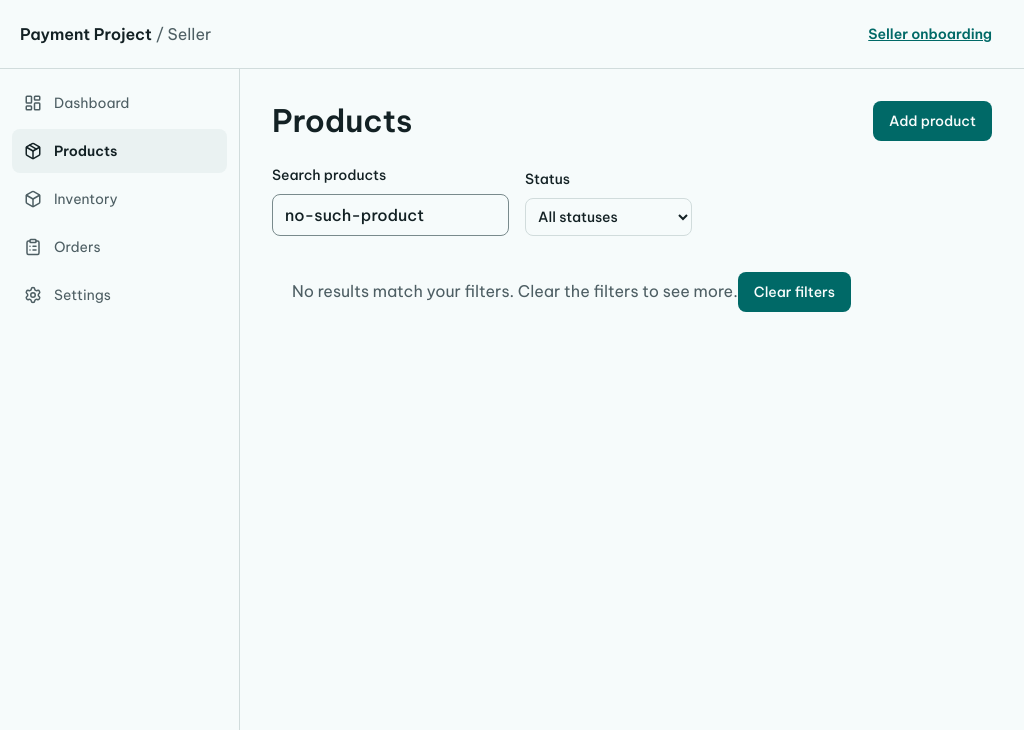
it: seller routes › clears product filters after a no-results state
Expected: the text "No results match" is shown, [292,281,738,301]
Click the button "Clear filters" at (794, 292), box [738,272,851,312]
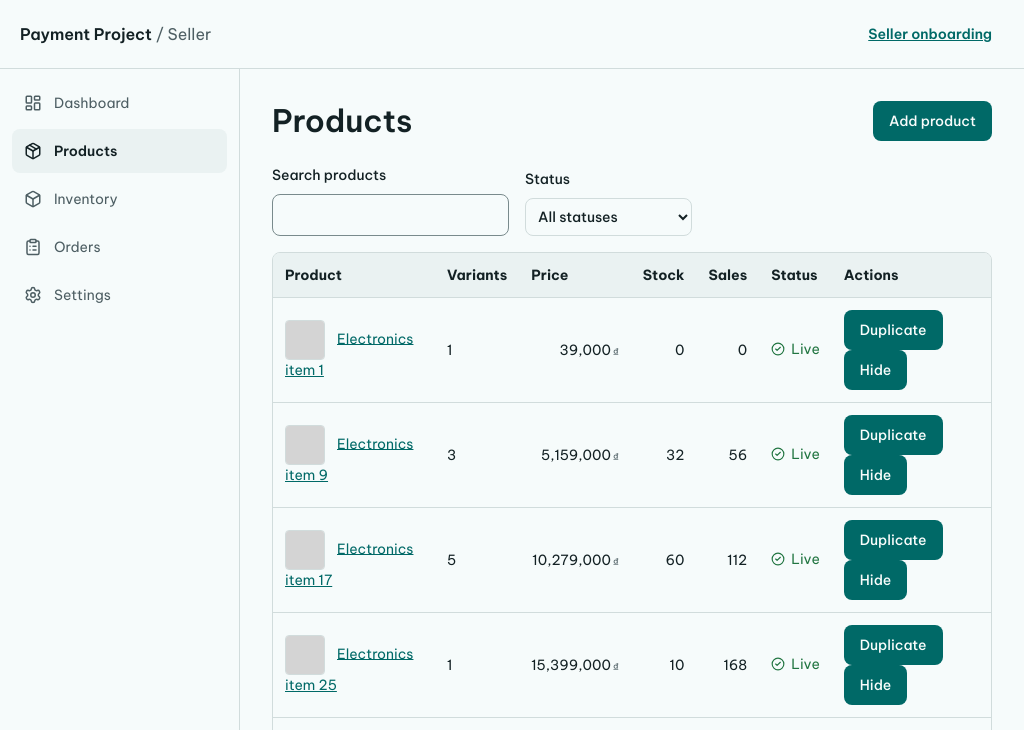
Expected: the link "Electronics item 1" is shown, [285,329,414,379]
